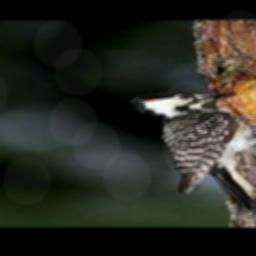Woodpecker: (120, 89, 256, 211)
